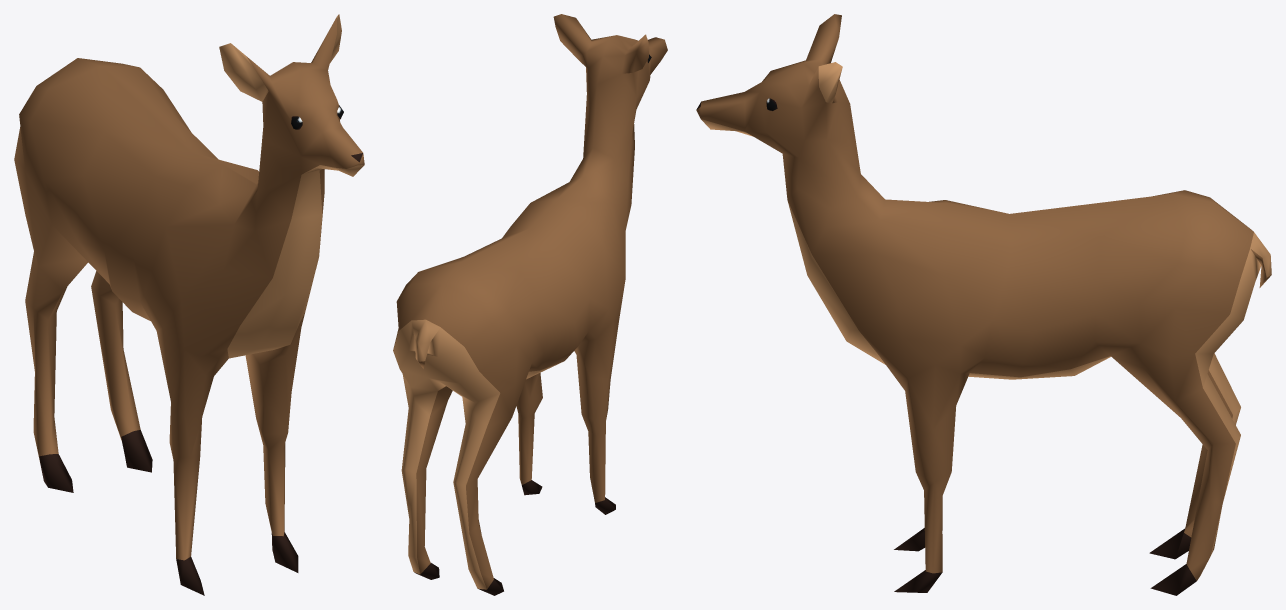
Rendered from 4f8507b1-a62e-43c1-b4c6-bab558b750ac.glb.
3 renders of one model, left to right at view 1: azimuth 30°, elevation 25°; view 2: azimuth 150°, elevation 25°; view 3: azimuth 270°, elevation 25°, orthographic. The views are drawn at different scales.
Visible parts, largest first — view 1: DeerFemale; view 2: DeerFemale; view 3: DeerFemale.
Part boxes in pixels (x1,y1,x2,y2): DeerFemale: [14, 14, 364, 595]; DeerFemale: [393, 14, 667, 595]; DeerFemale: [696, 14, 1271, 595].
Size of what is drawn, in the model's own units: 0.4854 by 1.8 by 1.75.
Materials: 1 (1 with a texture image).
